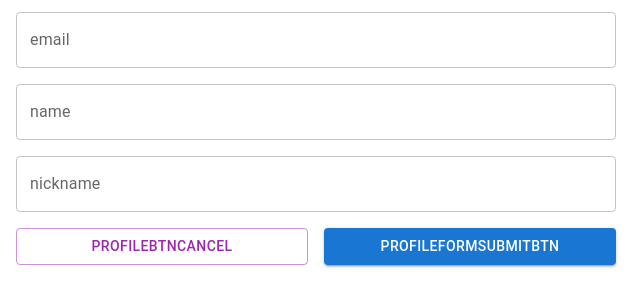
ProfileForm › displays error message when email is required
The width and height of the screenshot is (634, 307).
Type "John Doe" into the field with test id "name".
click(316, 112); type("John Doe")  # box [16,84,616,140]
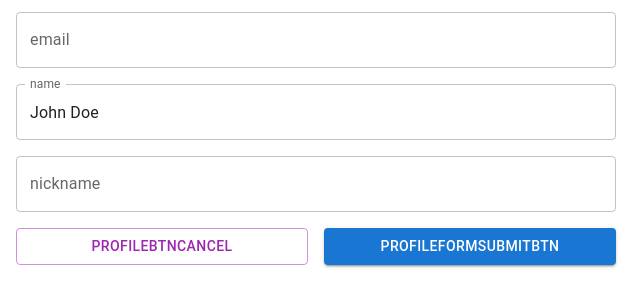
Type "Johnny" into the field with test id "nickname".
click(316, 184); type("Johnny")  # box [16,156,616,212]
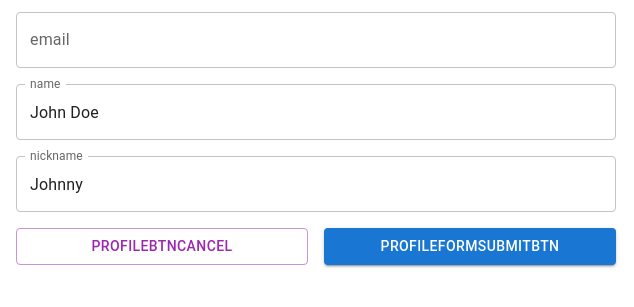
Click the button "profileFormSubmitBtn".
click(470, 246)  # box [324,228,616,264]
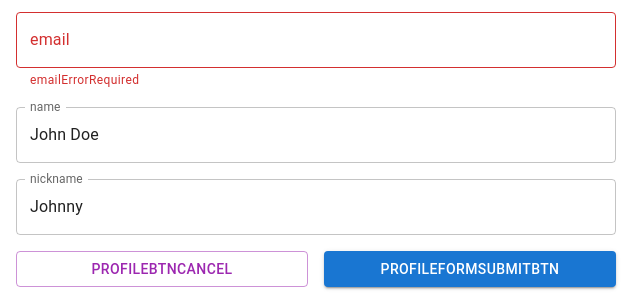
Check: the text "emailErrorRequired" is shown, box [30,73,139,87]
